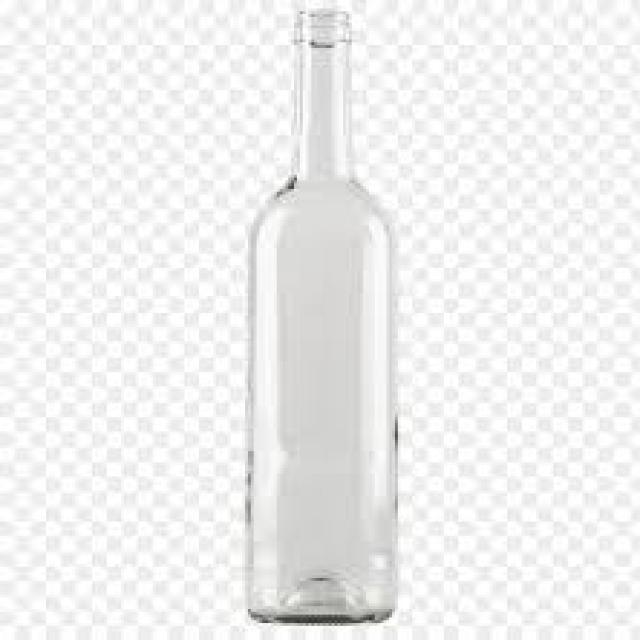Glass: (241, 9, 395, 626)
